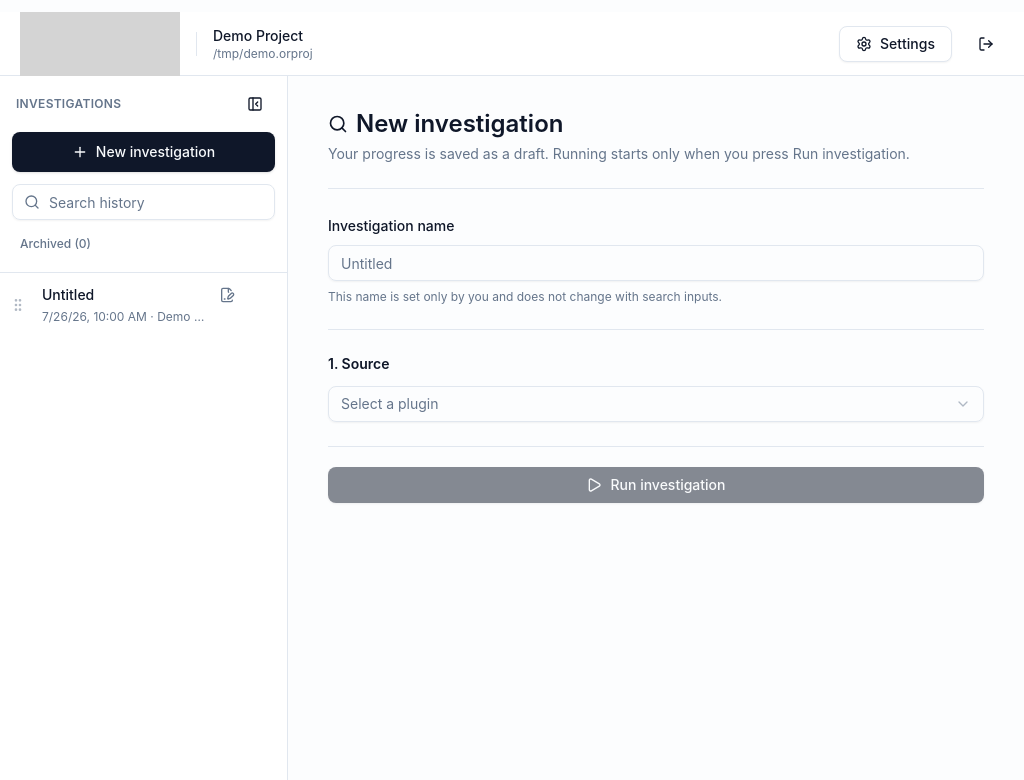
Test: Workspace investigation flow › opens a persisted Draft back in the same form
Click the text "Untitled": point(68, 294) left=42, top=286, right=94, bottom=303
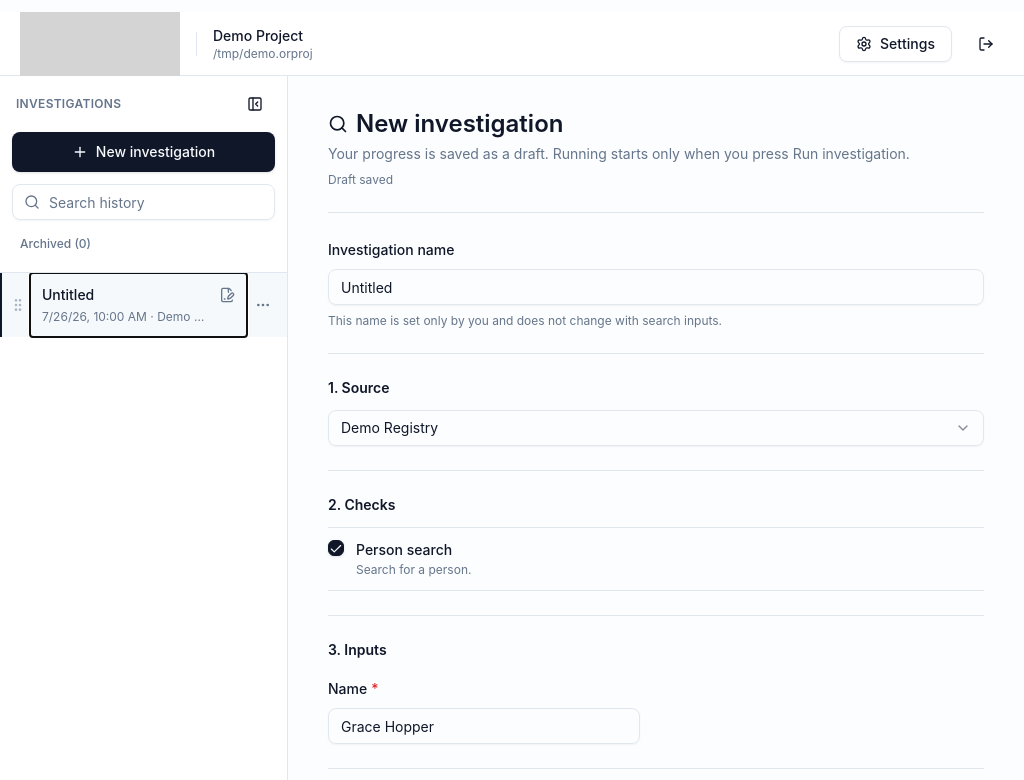
Check: the field showing "Grace Hopper" is shown, box left=328, top=708, right=640, bottom=744
Check: the checkbox is checked, box left=328, top=540, right=344, bottom=556
Check: the text "Draft saved" is shown, box left=328, top=172, right=393, bottom=187
